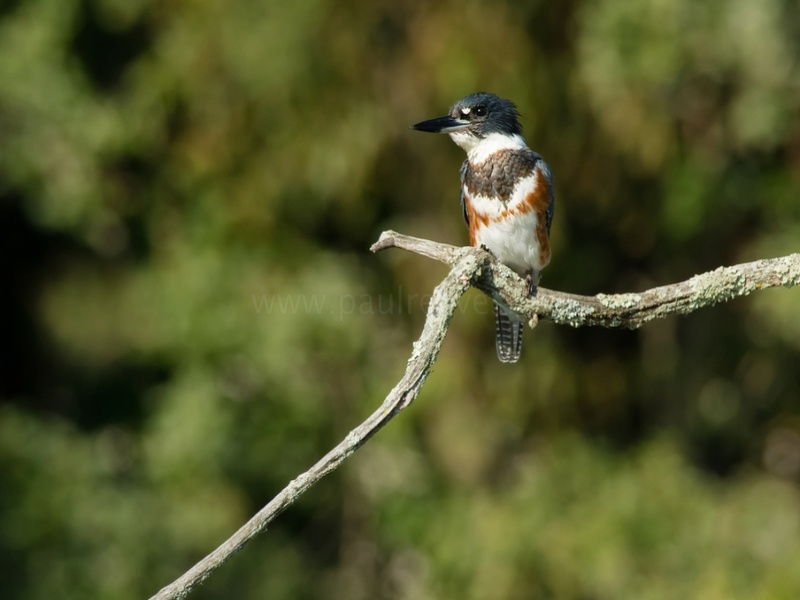kingfisher: (414, 91, 553, 366)
